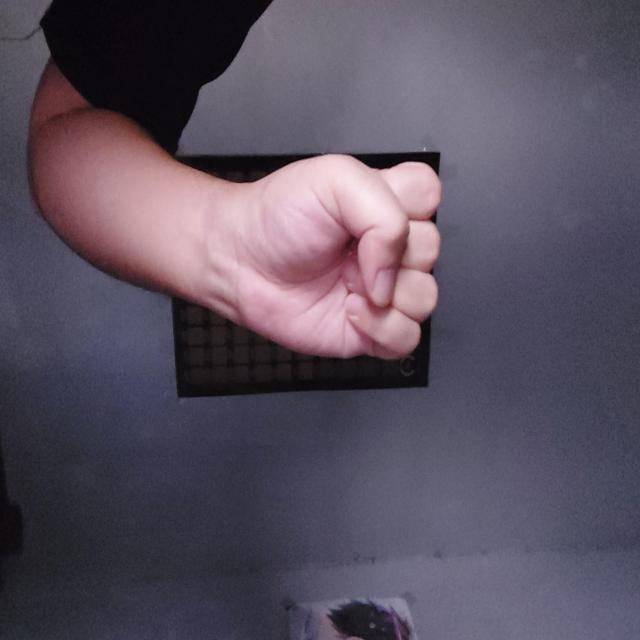S: (154, 198, 358, 398)
